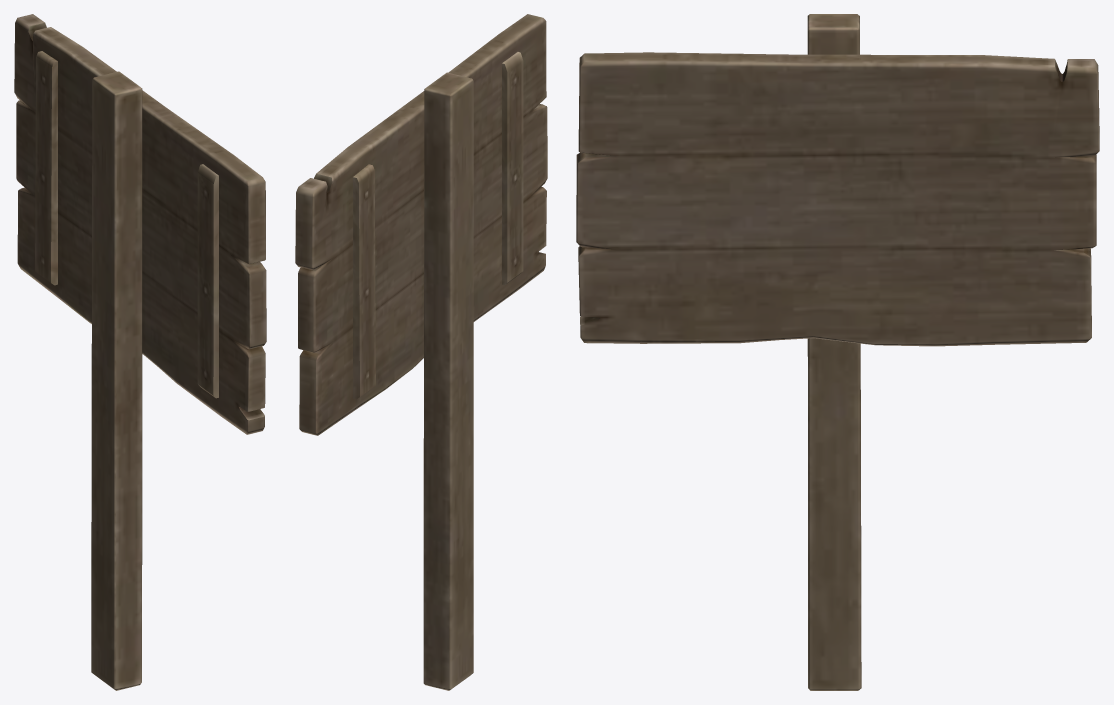
File: SM_Signboard_dc2482.glb
3 views of the same model, side by side, from view 1: azimuth 30°, elevation 25°; view 2: azimuth 150°, elevation 25°; view 3: azimuth 270°, elevation 25° (orthographic). The views are drawn at different scales.
Bounding box in the file's own units: 0.1365 × 1.58 × 1.13.
Materials: 1 (1 with a texture image).
